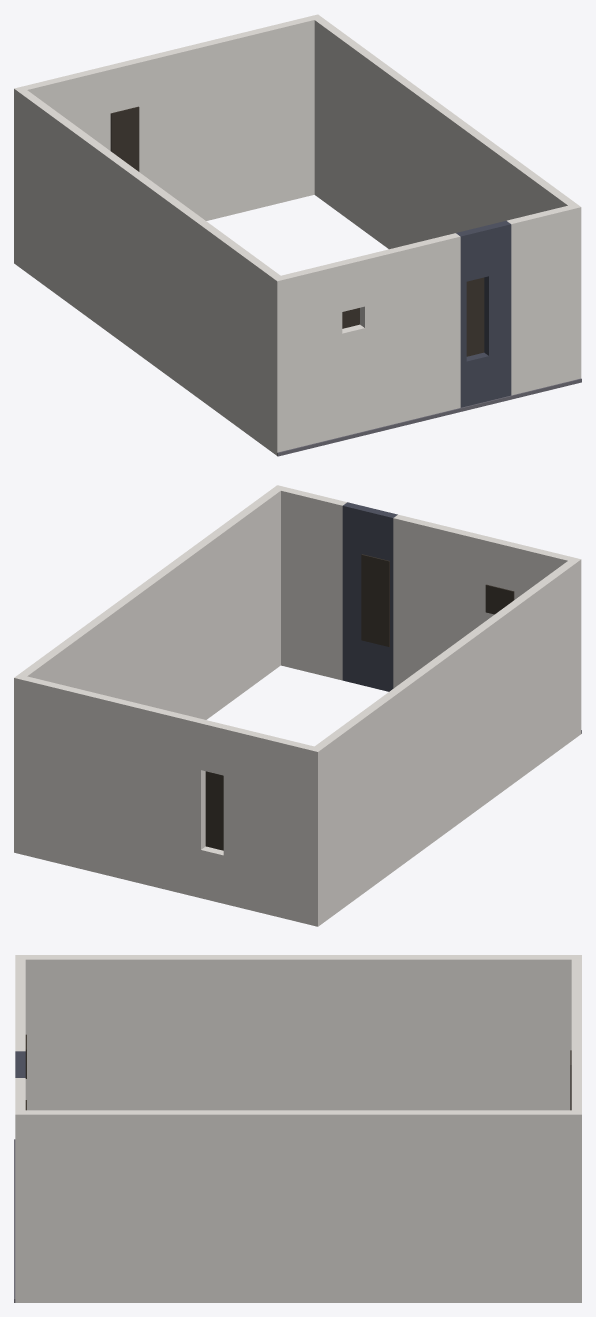
The model's file is SM_Floor_NarrowUpperScatterHigh_White_546_Back_01.gltf.
3 views of the same model, one above another, from view 1: azimuth 30°, elevation 25°; view 2: azimuth 150°, elevation 25°; view 3: azimuth 270°, elevation 25° (orthographic). The views are drawn at different scales.
Visible parts, largest first — view 1: SM_Floor_NarrowUpperScatterHigh_White_546_Back_01; view 2: SM_Floor_NarrowUpperScatterHigh_White_546_Back_01; view 3: SM_Floor_NarrowUpperScatterHigh_White_546_Back_01.
Boxes of the visible parts, <box> form: SM_Floor_NarrowUpperScatterHigh_White_546_Back_01: <box>14,14,581,456</box>; SM_Floor_NarrowUpperScatterHigh_White_546_Back_01: <box>14,485,581,926</box>; SM_Floor_NarrowUpperScatterHigh_White_546_Back_01: <box>14,955,581,1302</box>.
Bounding box in the file's own units: 5.46 × 3 × 8.21.
Materials: 1 (1 with a texture image).
